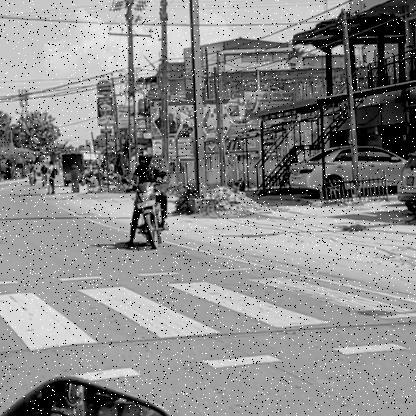motorcycle: (122, 180, 172, 253)
